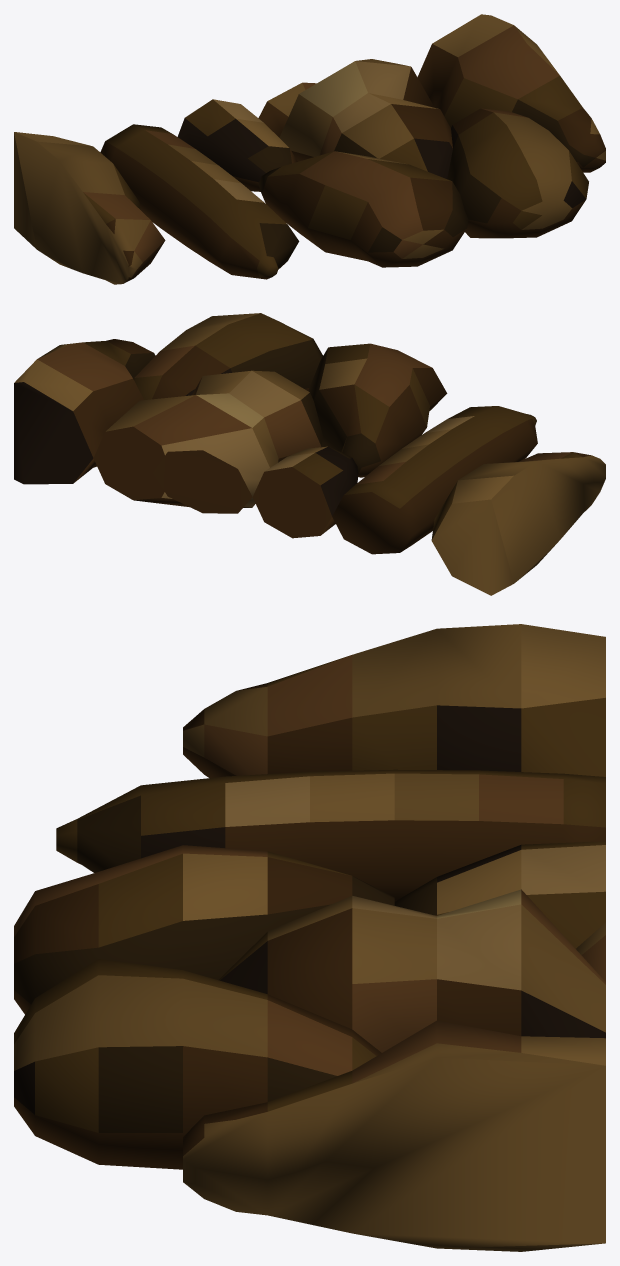
File: newsh8-243.glb
3 views of the same model, one above another, from view 1: azimuth 30°, elevation 25°; view 2: azimuth 150°, elevation 25°; view 3: azimuth 270°, elevation 25° (orthographic). The views are drawn at different scales.
Parts seen in each view (by area): view 1: newsh8-243; view 2: newsh8-243; view 3: newsh8-243.
Part boxes in pixels (x1,y1,x2,y2): newsh8-243: (14,14,605,284); newsh8-243: (14,313,605,595); newsh8-243: (14,624,605,1251).
Size of the model in its own units: 2 by 0.4522 by 1.17.
